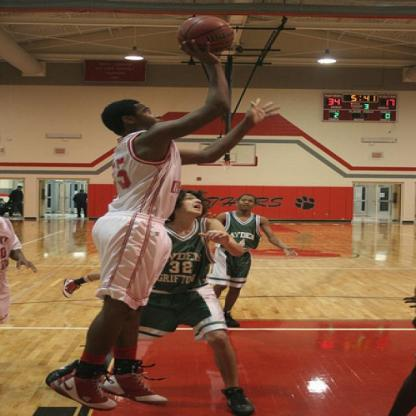basketball: (177, 14, 238, 62)
